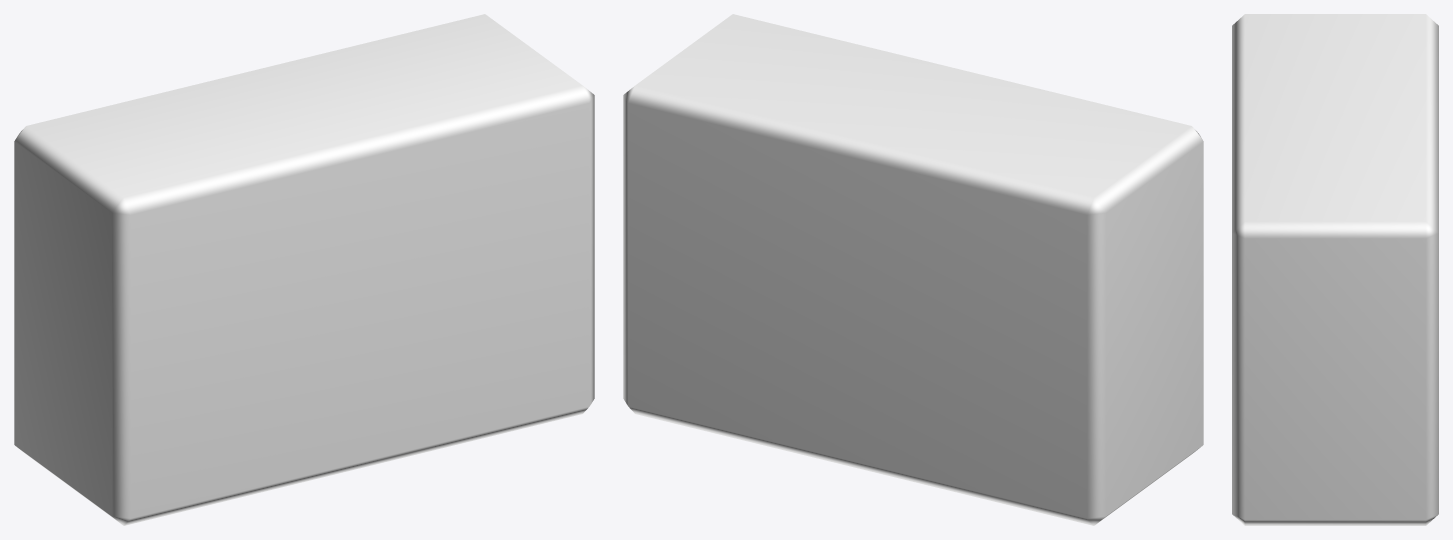
The model's file is soap.glb.
3 views of the same model, side by side, from view 1: azimuth 30°, elevation 25°; view 2: azimuth 150°, elevation 25°; view 3: azimuth 270°, elevation 25° (orthographic). The views are drawn at different scales.
Parts seen in each view (by area): view 1: Soap; view 2: Soap; view 3: Soap.
Part boxes in pixels (x1,y1,x2,y2): Soap: (14, 14, 594, 525); Soap: (623, 14, 1203, 525); Soap: (1232, 14, 1438, 525).
Size of the model in its own units: 0.1 by 0.065 by 0.04.
Materials: 1 (1 with a texture image).
